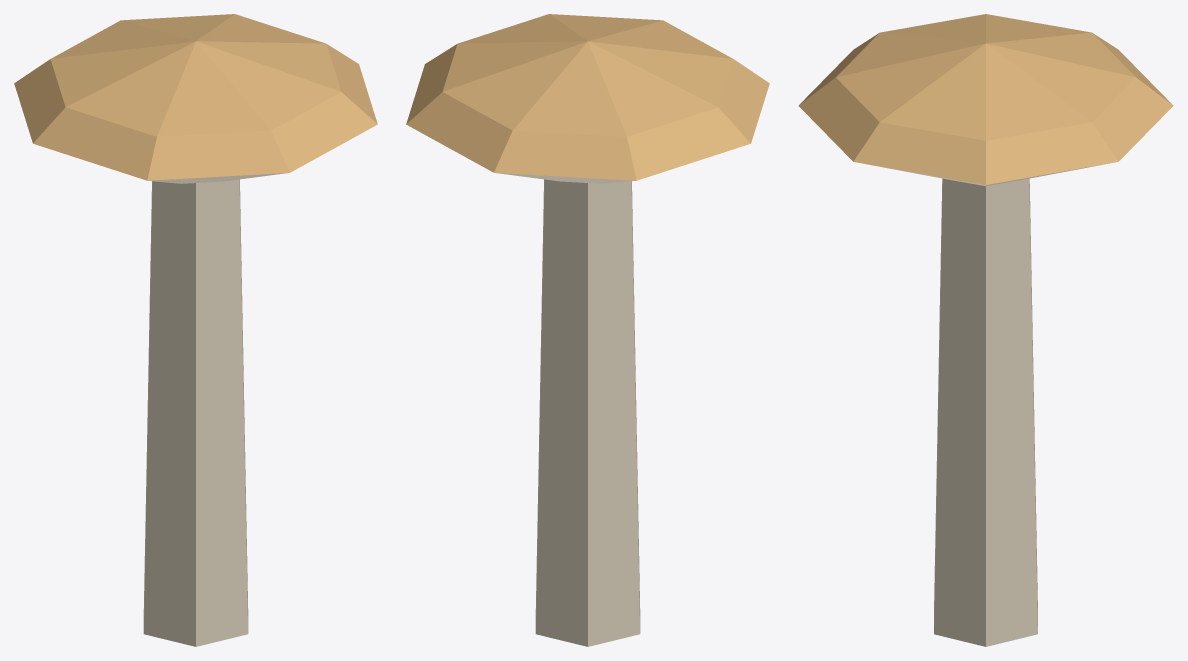
File: mushroom_tanTall.glb
The picture shows the model from 3 angles, left to right: view 1: azimuth 30°, elevation 25°; view 2: azimuth 150°, elevation 25°; view 3: azimuth 270°, elevation 25°; orthographic projection.
Visible parts, largest first — view 1: mushroom_tanTall; view 2: mushroom_tanTall; view 3: mushroom_tanTall.
Boxes of the visible parts, x1,y1,x2,y2 form: mushroom_tanTall: (14,14,377,646); mushroom_tanTall: (406,14,769,646); mushroom_tanTall: (798,14,1173,646).
Bounding box in the file's own units: 0.12 × 0.204 × 0.12.
Materials: 1 (1 with a texture image).
